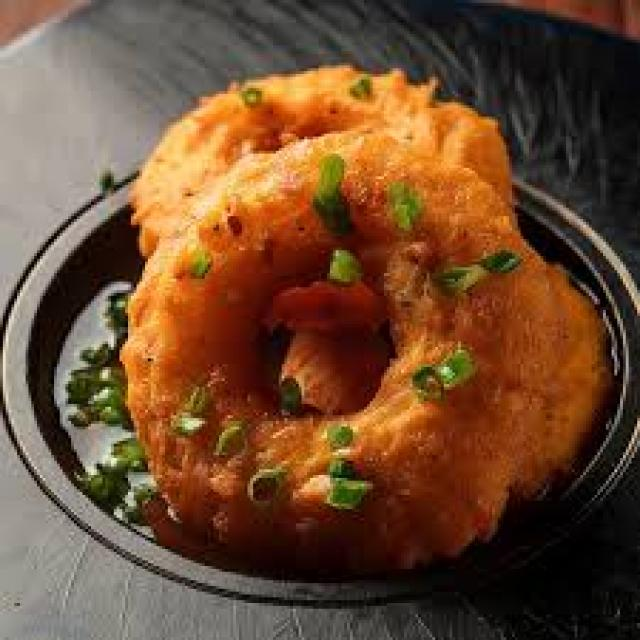MEDU VADA: (117, 54, 619, 581)
